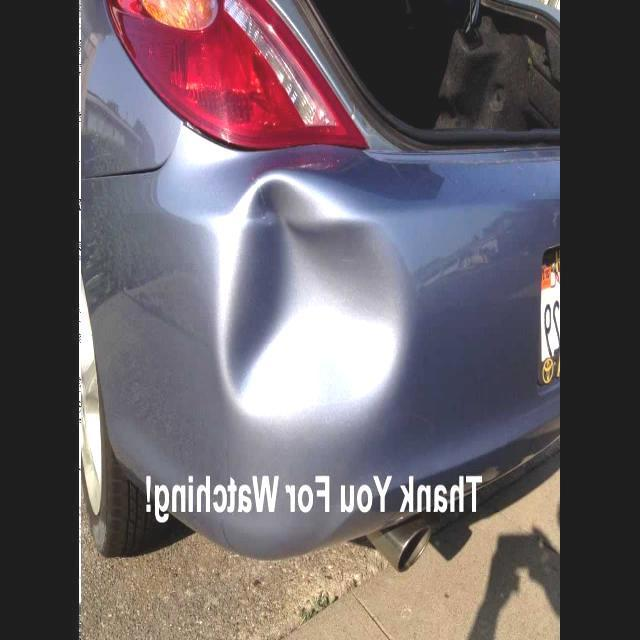minor: (196, 160, 435, 468)
